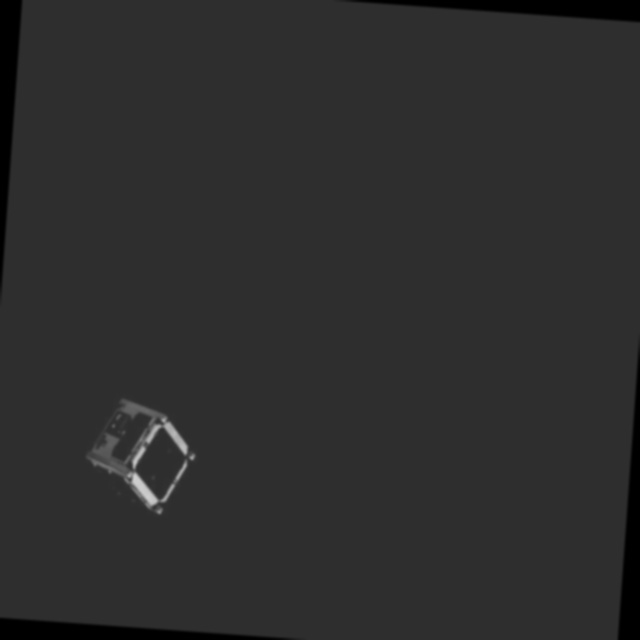medium_debris: (82, 393, 203, 513)
